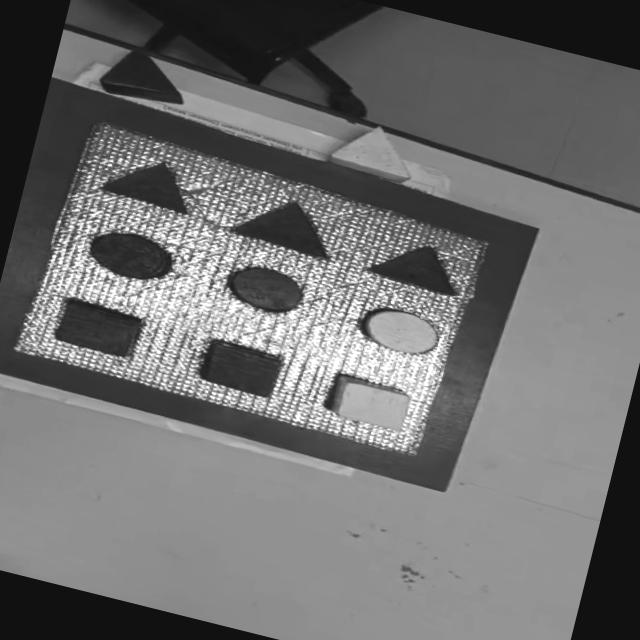bcircle: (82, 222, 178, 288)
bcube: (52, 294, 145, 360)
mttriangle: (228, 186, 344, 261), (98, 146, 202, 216), (366, 232, 468, 298)
rcircle: (226, 260, 307, 317)
rcube: (196, 336, 284, 400)
rtriangle: (98, 41, 194, 110)
wb: (14, 114, 501, 462)
ycircle: (356, 300, 446, 362)
ycube: (326, 372, 414, 434)
ytriangle: (325, 115, 422, 187)
